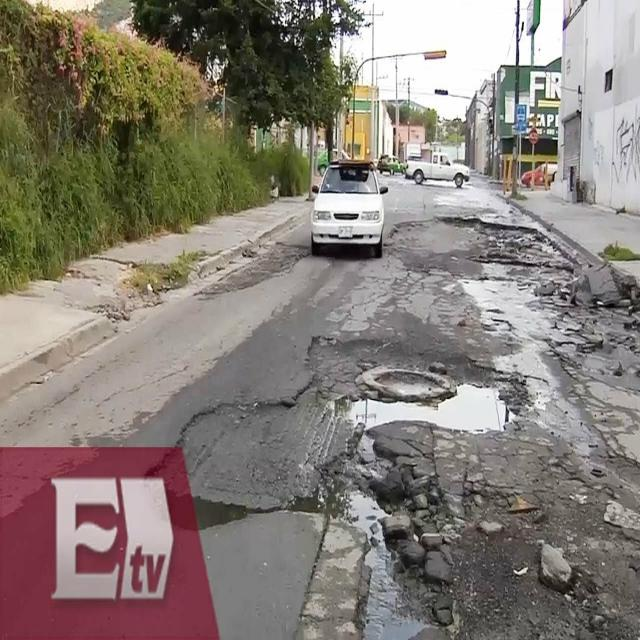Pothole: (288, 316, 562, 639), (400, 188, 572, 302)
